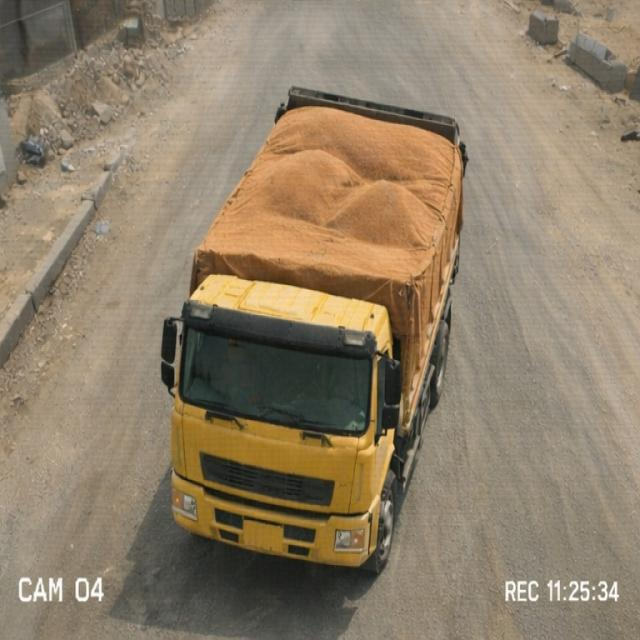Box: (193, 85, 462, 305)
Truck: (163, 76, 506, 553)
